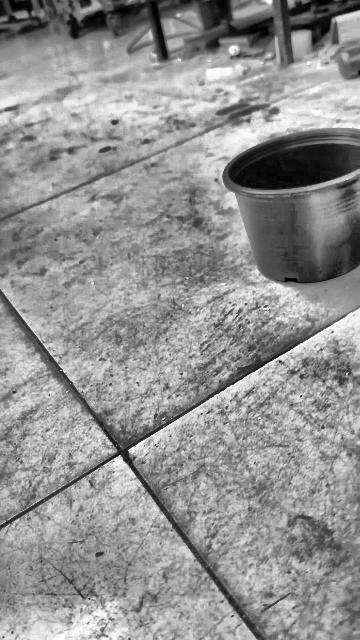pot: (223, 129, 360, 283)
